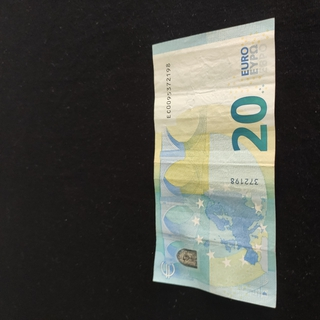20EUROBack: (152, 17, 277, 308)
